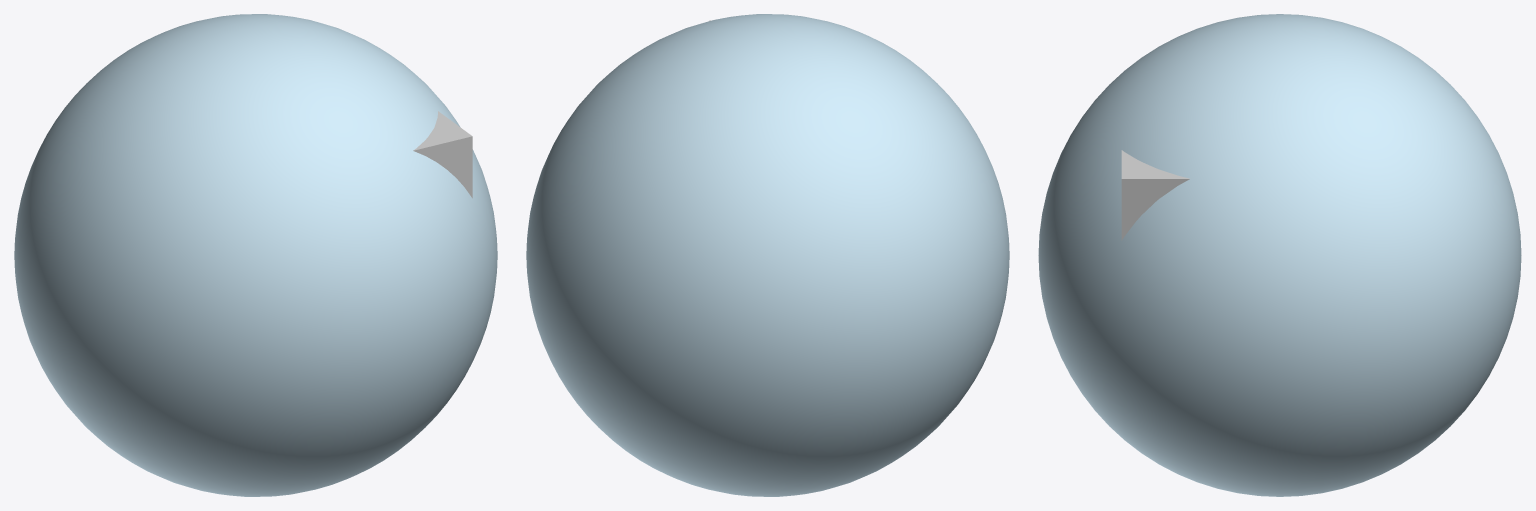
3 views of the same model, side by side, from view 1: azimuth 30°, elevation 25°; view 2: azimuth 150°, elevation 25°; view 3: azimuth 270°, elevation 25° (orthographic).
Visible parts, largest first — view 1: Part 1, Part 2; view 2: Part 1; view 3: Part 1, Part 2.
Part boxes in pixels (bbox=[...]): Part 1: bbox=[14, 14, 497, 496]; Part 2: bbox=[413, 111, 472, 198]; Part 1: bbox=[526, 14, 1009, 496]; Part 1: bbox=[1038, 14, 1521, 496]; Part 2: bbox=[1121, 150, 1189, 240].
Size of the model in its own units: 0.0762 by 0.0762 by 0.0762.
